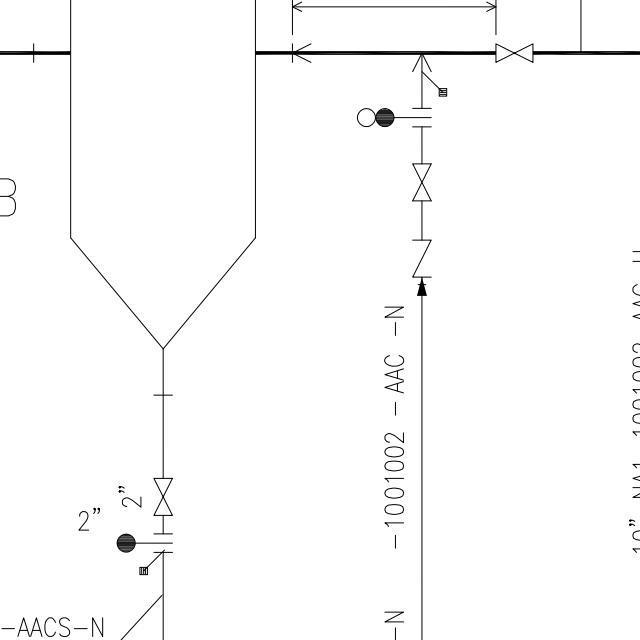GV: (490, 37, 537, 64), (409, 157, 434, 207), (149, 473, 175, 521)
